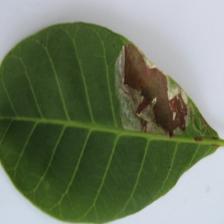leaf miner: (0, 20, 224, 224), (115, 43, 188, 138)
